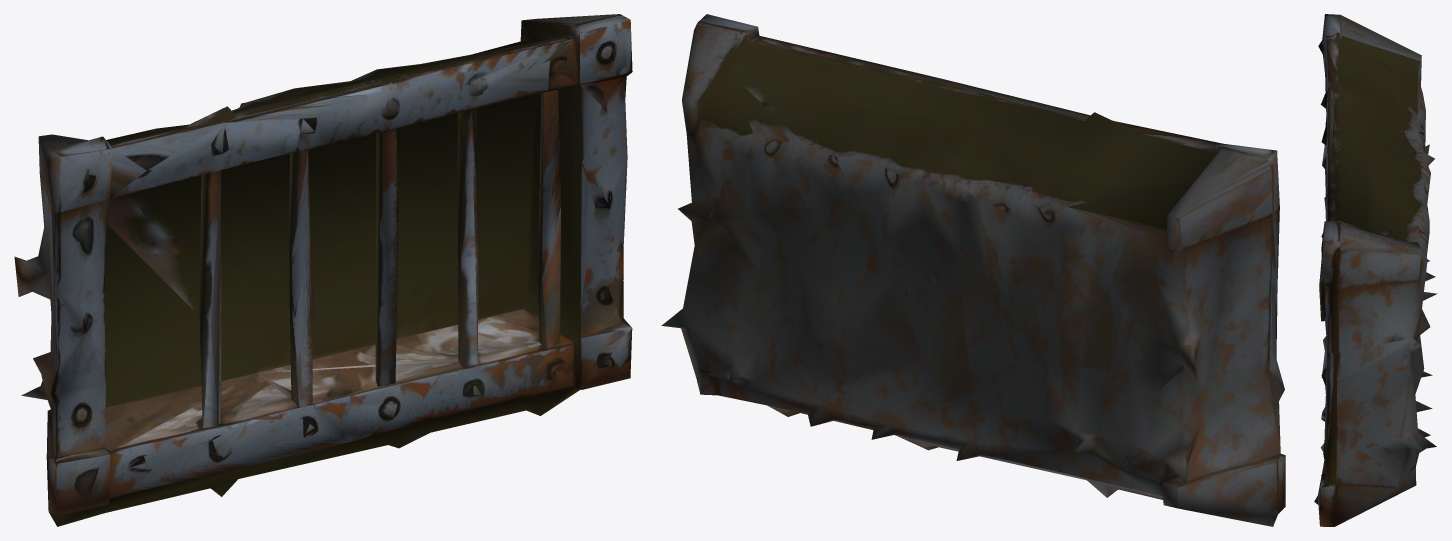
The model's file is lhi_wall_grille.glb.
3 renders of one model, left to right at view 1: azimuth 30°, elevation 25°; view 2: azimuth 150°, elevation 25°; view 3: azimuth 270°, elevation 25°, orthographic. The views are drawn at different scales.
Visible parts, largest first — view 1: material; view 2: material; view 3: material.
Boxes of the visible parts, box(x1,y1,x2,y2) form: material: box(14, 14, 632, 526); material: box(661, 14, 1285, 526); material: box(1314, 14, 1437, 526).
Bounding box in the file's own units: 1.03 × 0.6499 × 0.2334.
1 material, 1 textured.
